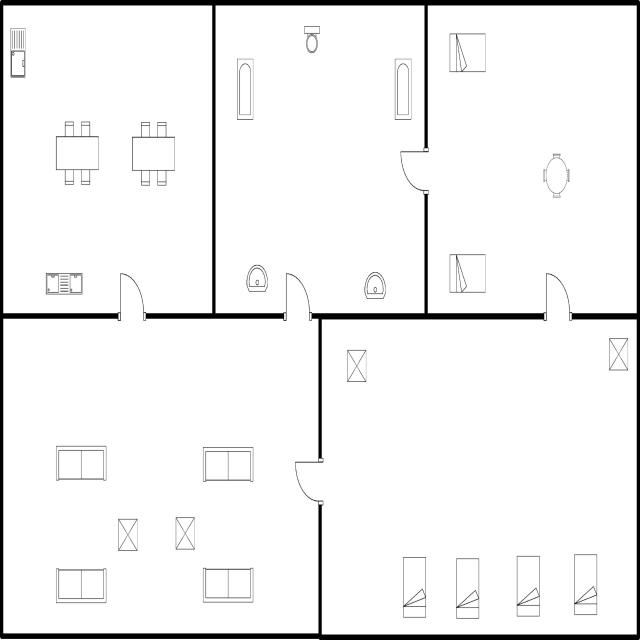bed: (570, 547, 602, 622), (446, 29, 490, 78), (446, 248, 488, 299), (453, 552, 482, 623), (514, 551, 542, 622), (400, 552, 428, 622)
coffee_table: (343, 343, 369, 387), (606, 335, 632, 378), (116, 512, 140, 556), (173, 513, 198, 553)
dining_table: (52, 116, 104, 190), (128, 116, 178, 192)
large_sink: (299, 20, 323, 56)
large_sofa: (53, 438, 109, 487), (53, 564, 108, 610), (199, 443, 256, 486), (200, 564, 257, 606)
round_table: (540, 146, 574, 204)
sink: (7, 23, 30, 82)
small_sink: (360, 267, 388, 306), (244, 259, 271, 298)
tub: (391, 54, 414, 124), (233, 51, 255, 124)
twin_sink: (42, 267, 86, 299)
